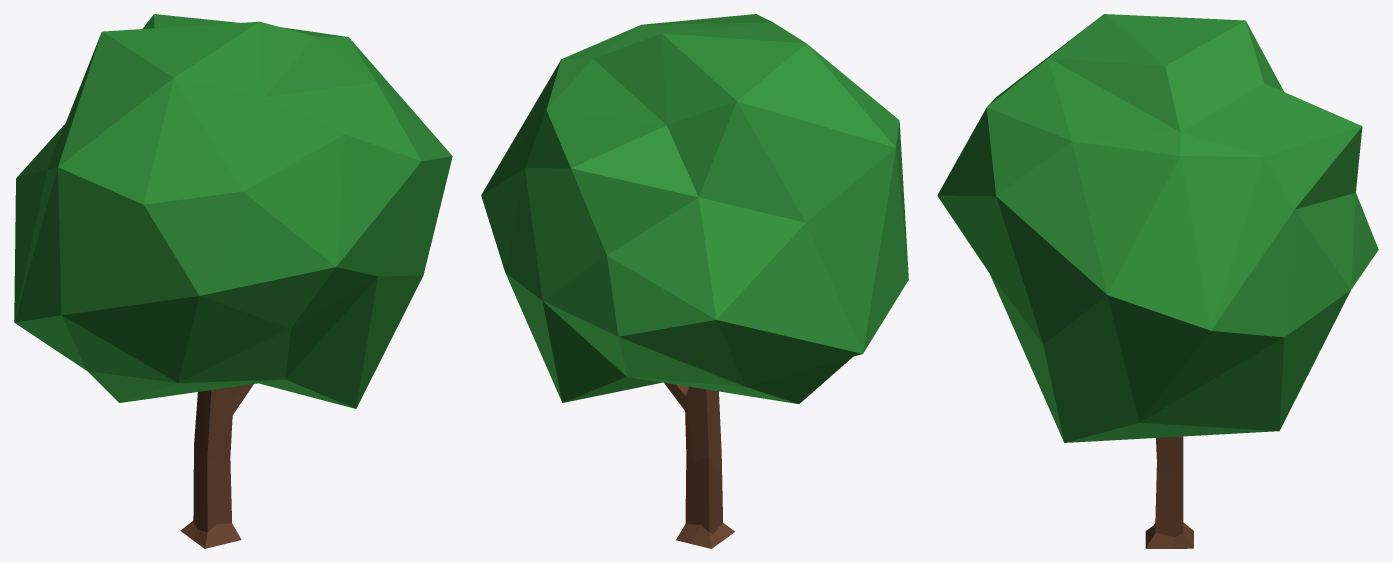
The model's file is Tree_13_Green.fbx.
3 renders of one model, left to right at view 1: azimuth 30°, elevation 25°; view 2: azimuth 150°, elevation 25°; view 3: azimuth 270°, elevation 25°, orthographic. The views are drawn at different scales.
Parts seen in each view (by area): view 1: Tree_13_Green_Part_1, Tree_13_Green_Part_2; view 2: Tree_13_Green_Part_1, Tree_13_Green_Part_2; view 3: Tree_13_Green_Part_1, Tree_13_Green_Part_2.
Part boxes in pixels (x1,y1,x2,y2): Tree_13_Green_Part_1: (14,14,452,408); Tree_13_Green_Part_2: (180,384,253,548); Tree_13_Green_Part_1: (481,14,908,403); Tree_13_Green_Part_2: (664,382,734,548); Tree_13_Green_Part_1: (937,14,1378,442); Tree_13_Green_Part_2: (1145,436,1193,548).
Bounding box in the file's own units: 643 × 796 × 641.
